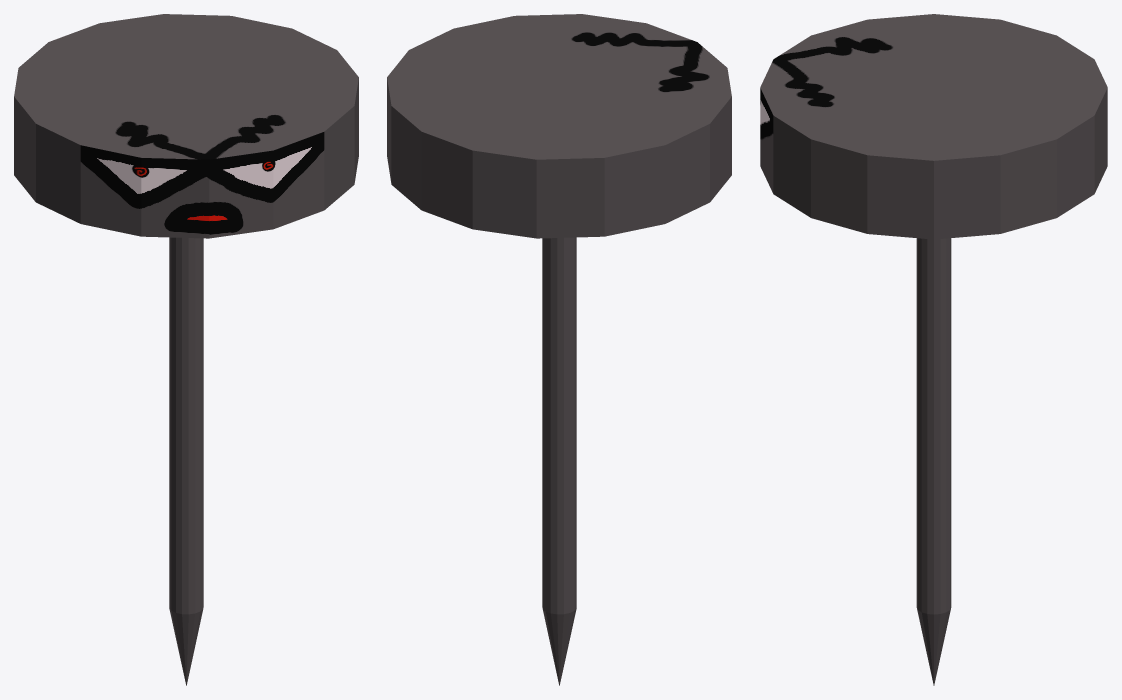
The model's file is nail.fbx.
3 renders of one model, left to right at view 1: azimuth 30°, elevation 25°; view 2: azimuth 150°, elevation 25°; view 3: azimuth 270°, elevation 25°, orthographic.
Visible parts, largest first — view 1: Cylinder; view 2: Cylinder; view 3: Cylinder.
Boxes of the visible parts, bbox=[...] form: Cylinder: bbox=[14, 14, 358, 685]; Cylinder: bbox=[387, 14, 731, 685]; Cylinder: bbox=[760, 14, 1107, 685].
Bounding box in the file's own units: 200 × 380 × 200.
Materials: 1 (1 with a texture image).
